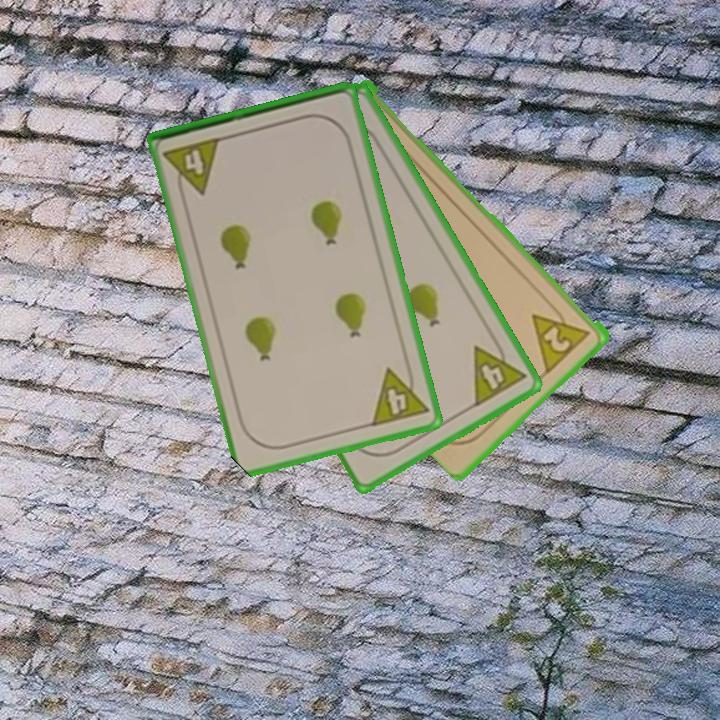2p: (528, 298, 594, 375)
4p: (470, 332, 529, 410), (367, 360, 431, 430), (160, 134, 224, 201)
